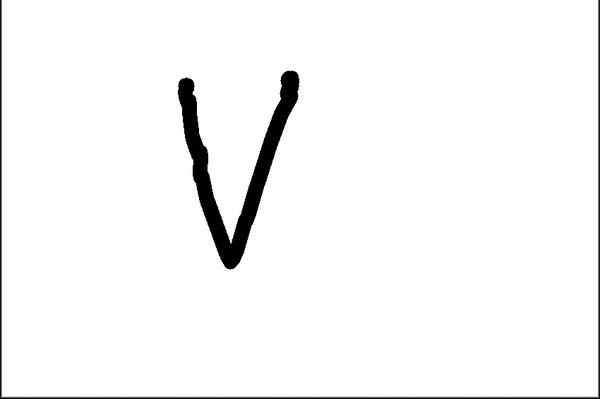V: (173, 70, 305, 270)
